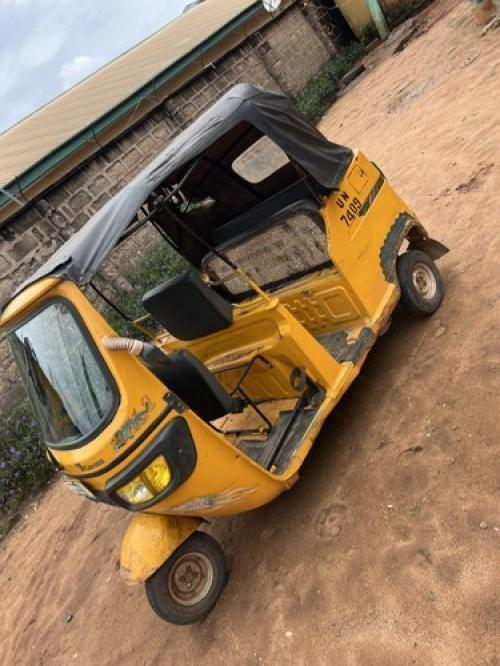keke: (3, 68, 500, 633)
